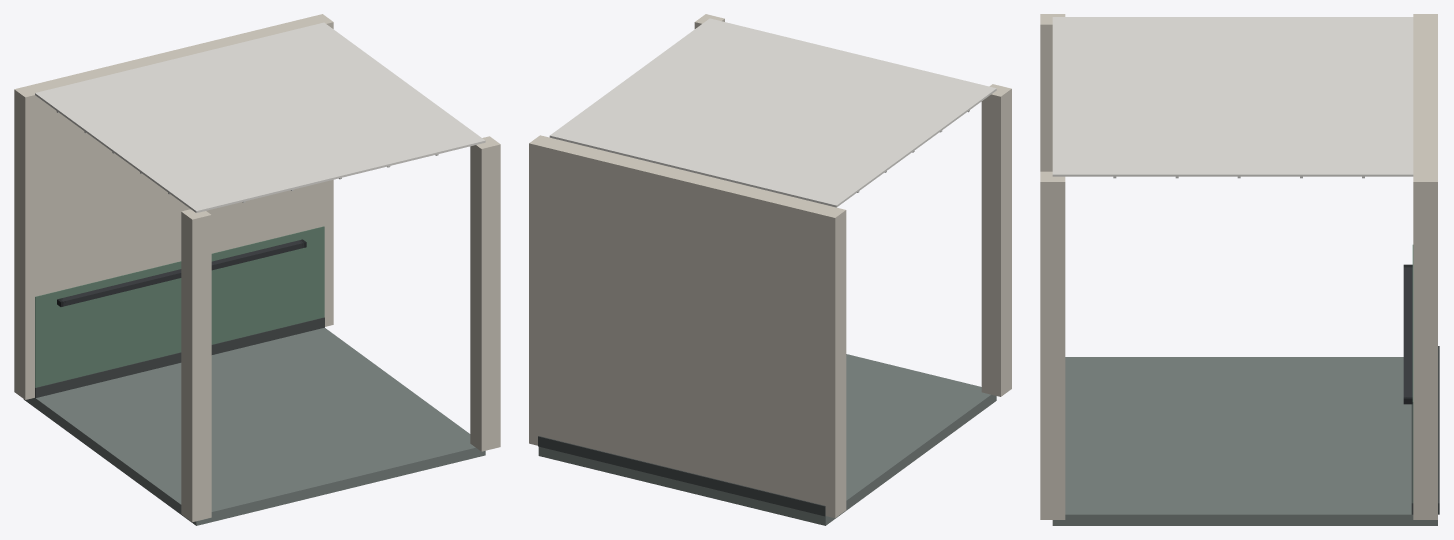
The model's file is MOD_Corridor_T_Junction.glb.
3 views of the same model, side by side, from view 1: azimuth 30°, elevation 25°; view 2: azimuth 150°, elevation 25°; view 3: azimuth 270°, elevation 25° (orthographic). The views are drawn at different scales.
Parts seen in each view (by area): view 1: MOD_Corridor_T_Junction_Mesh; view 2: MOD_Corridor_T_Junction_Mesh; view 3: MOD_Corridor_T_Junction_Mesh.
Part boxes in pixels (x1,y1,x2,y2): MOD_Corridor_T_Junction_Mesh: [14, 14, 500, 525]; MOD_Corridor_T_Junction_Mesh: [529, 14, 1011, 525]; MOD_Corridor_T_Junction_Mesh: [1040, 14, 1439, 525].
Size of what is drawn, in the model's own units: 3.2 by 3.12 by 3.21.
